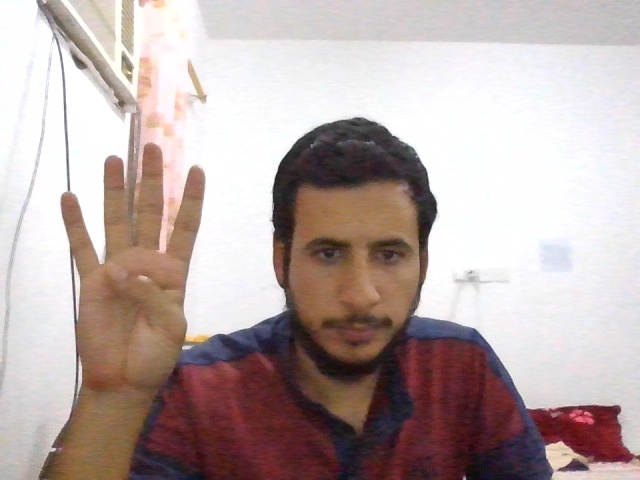Four: (61, 143, 204, 384)
